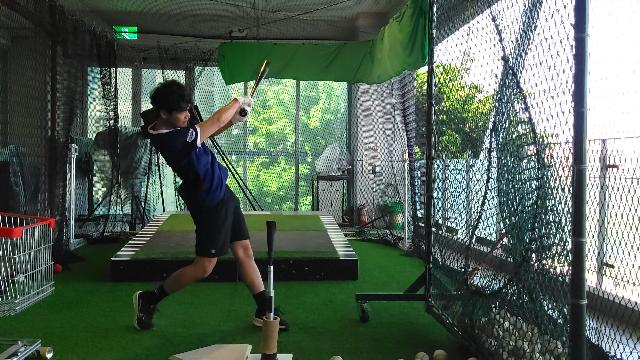bat: (250, 58, 272, 96)
